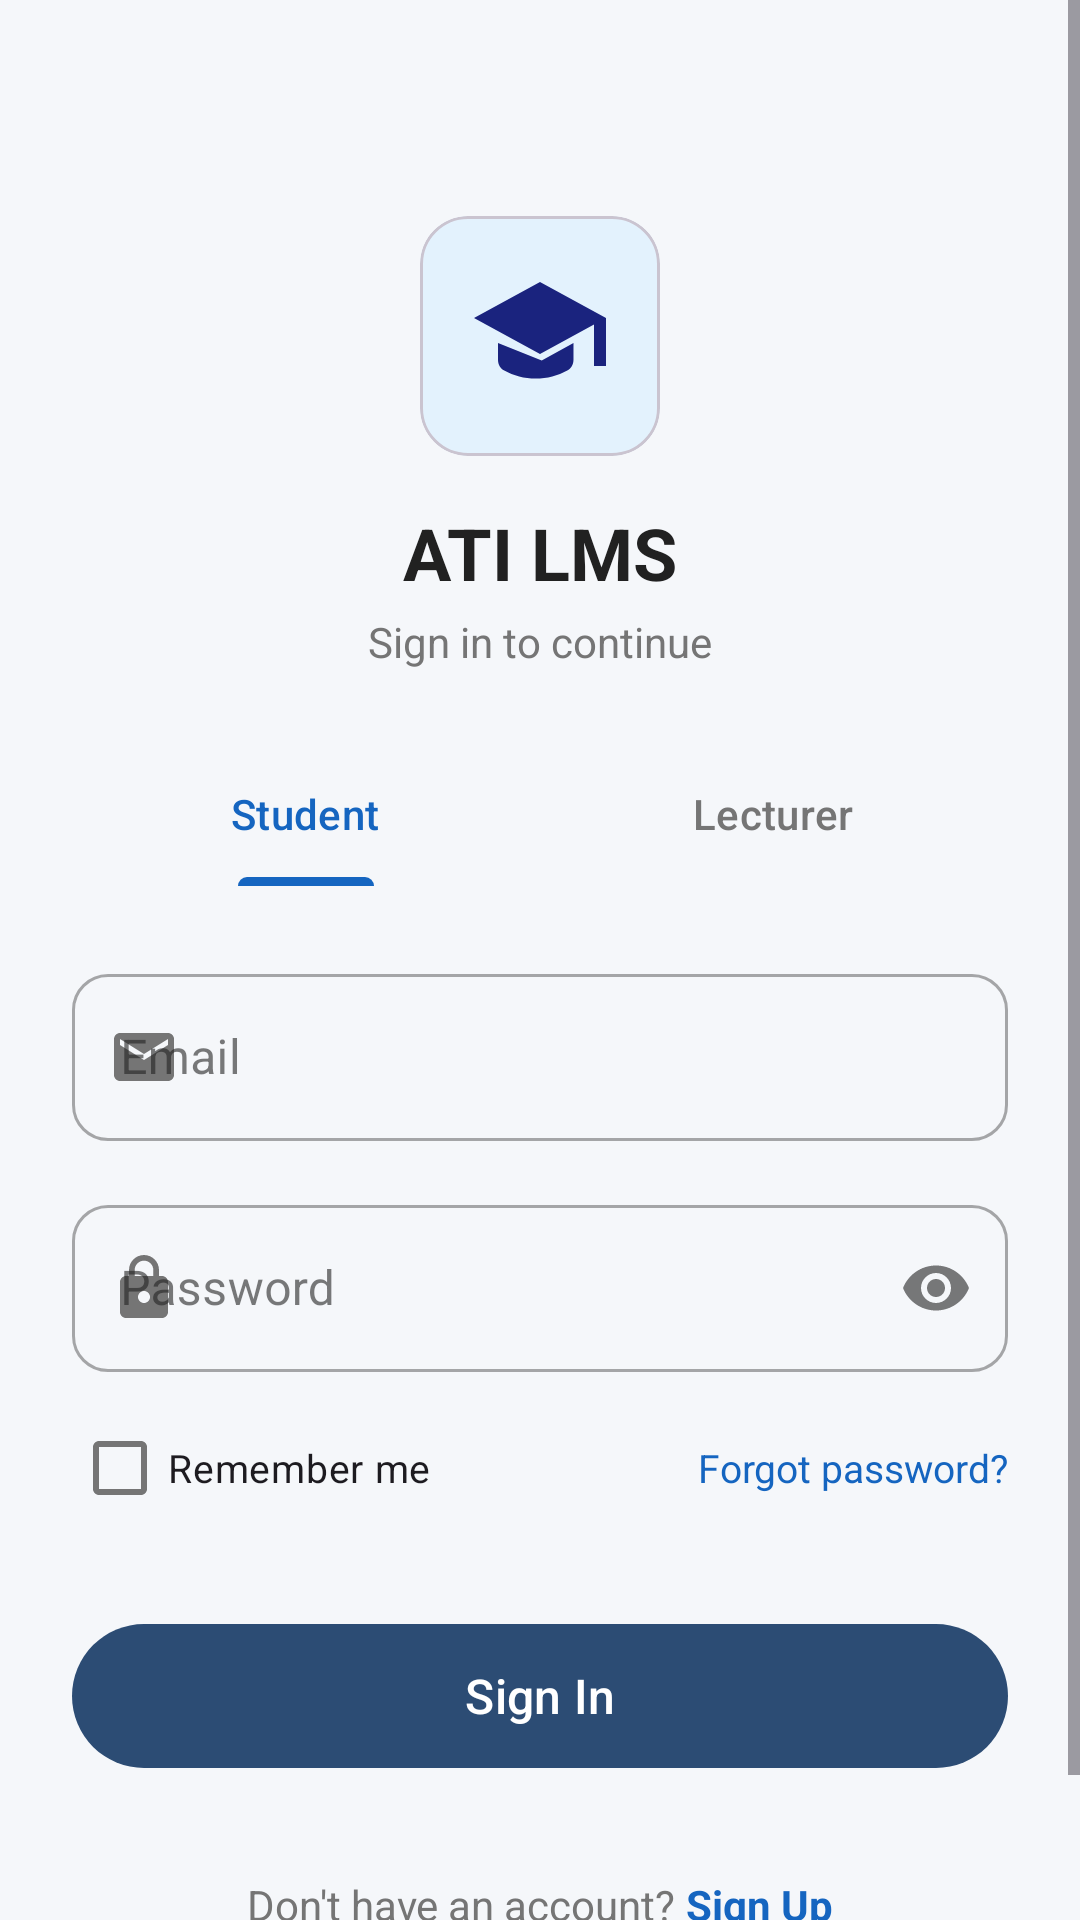

Named icons in this screenshot (1080px×1920px) and their bounding boxes, (x1, y1, x2, y2):
graduation cap: (420, 216, 660, 456)
